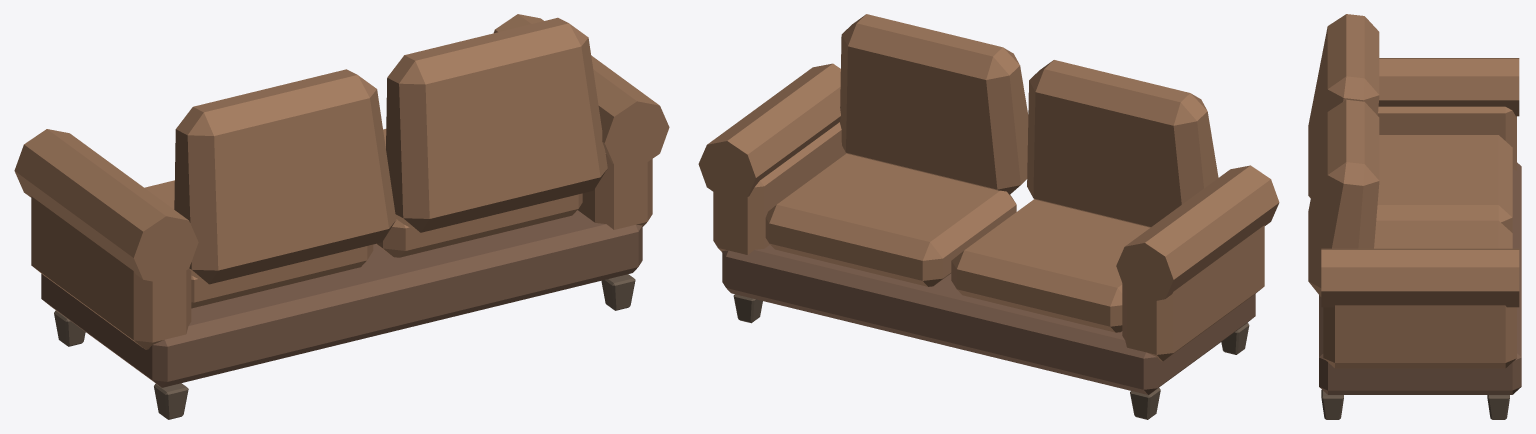
File: BUILD0041_LeatherSofa.fbx
3 renders of one model, left to right at view 1: azimuth 30°, elevation 25°; view 2: azimuth 150°, elevation 25°; view 3: azimuth 270°, elevation 25°, orthographic. The views are drawn at different scales.
Visible parts, largest first — view 1: BUILD0041_LeatherSofa; view 2: BUILD0041_LeatherSofa; view 3: BUILD0041_LeatherSofa.
Part boxes in pixels (left/top/right/bottom): BUILD0041_LeatherSofa: left=14, top=14, right=669, bottom=419; BUILD0041_LeatherSofa: left=698, top=14, right=1279, bottom=419; BUILD0041_LeatherSofa: left=1308, top=14, right=1521, bottom=419.
Bounding box in the file's own units: 2.23 × 1.14 × 0.9262.
